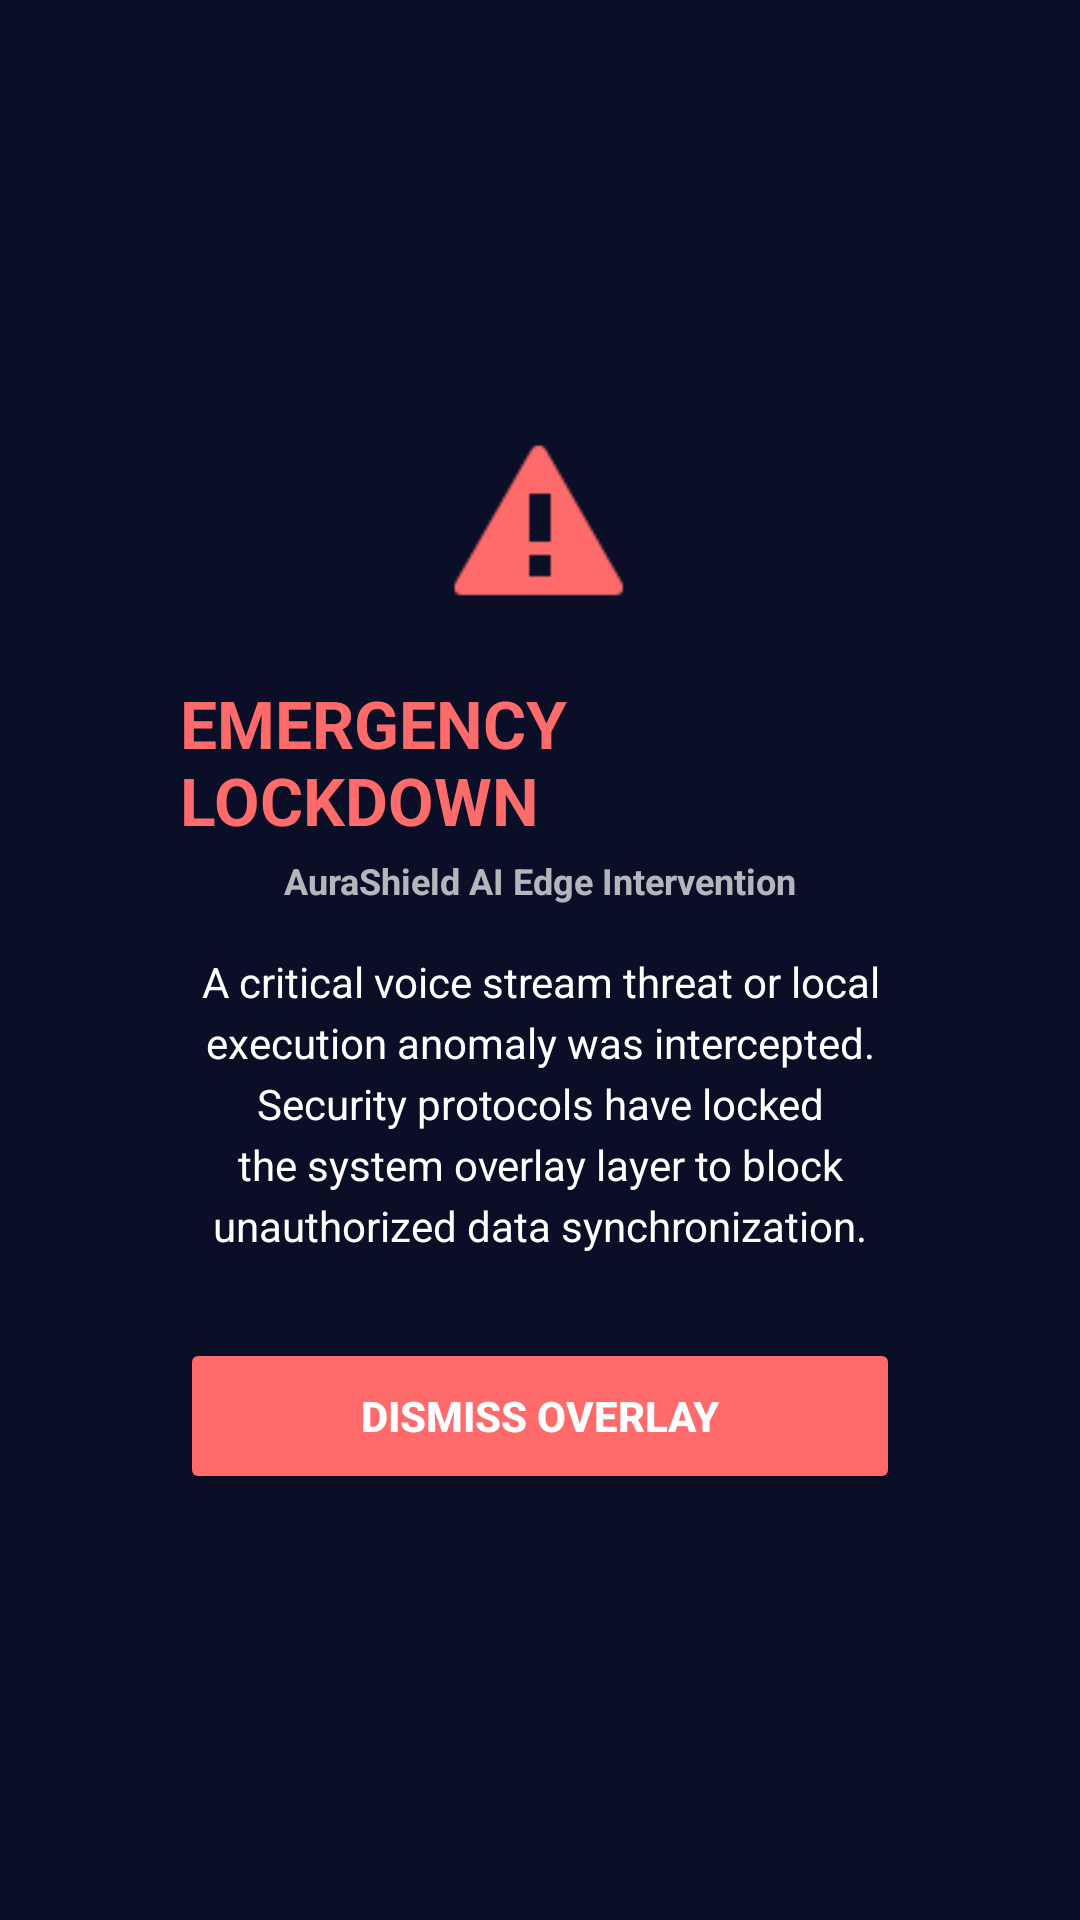

Icons on this 1080 × 1920 Android screen, each with the point to tap as (x=x, y=y):
Emergency Warning: (x=539, y=520)
